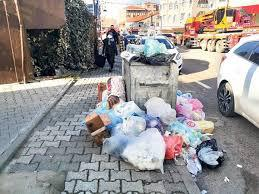Container: (122, 58, 180, 108)
Garbage: (102, 101, 225, 179), (179, 89, 226, 180), (93, 78, 124, 136), (124, 38, 181, 64)
